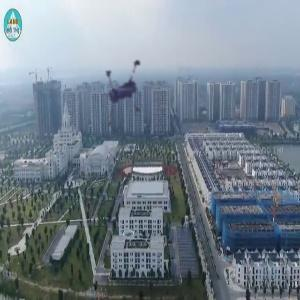drone: (75, 39, 166, 130)
